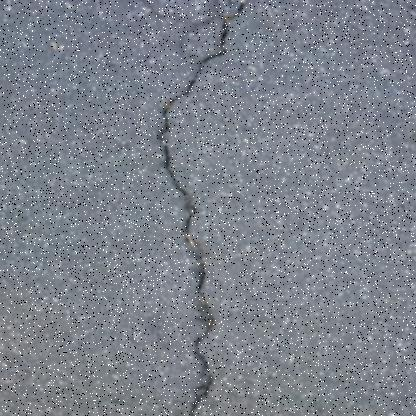Cracks: (144, 0, 264, 415)
